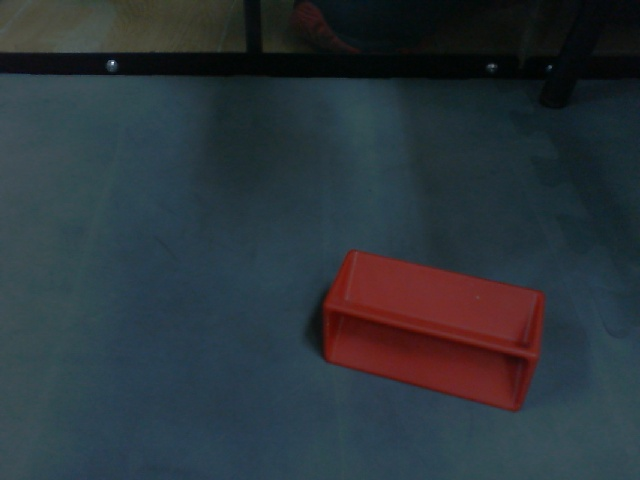RedSample: (318, 245, 548, 416)
